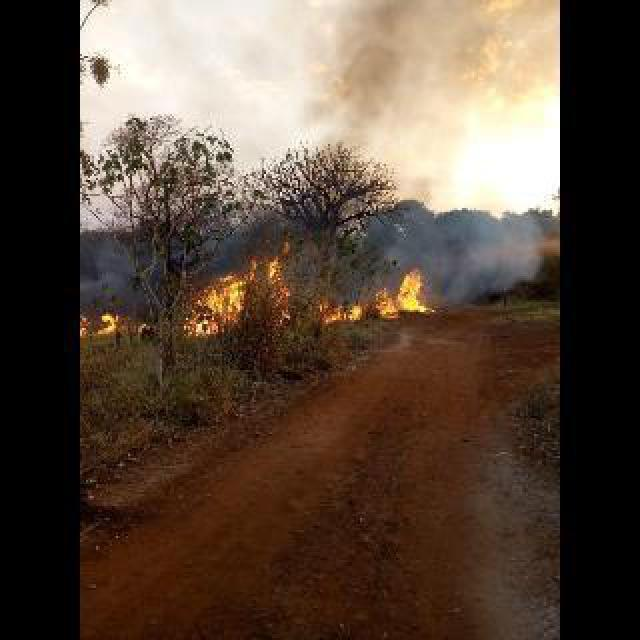Fire: (172, 254, 280, 346), (386, 264, 428, 324), (311, 296, 378, 329), (77, 306, 130, 338)
Smoke: (311, 6, 493, 156), (430, 197, 552, 308)
